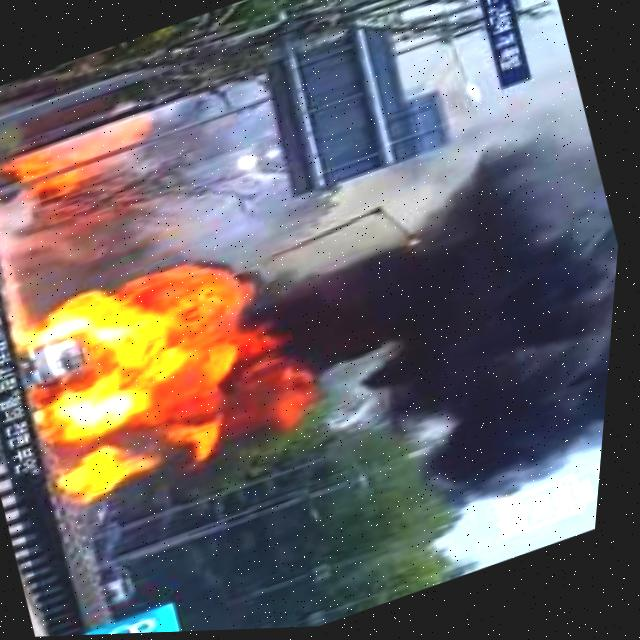Fire: (0, 222, 324, 524), (0, 124, 126, 211)
Smoke: (244, 117, 631, 550)
